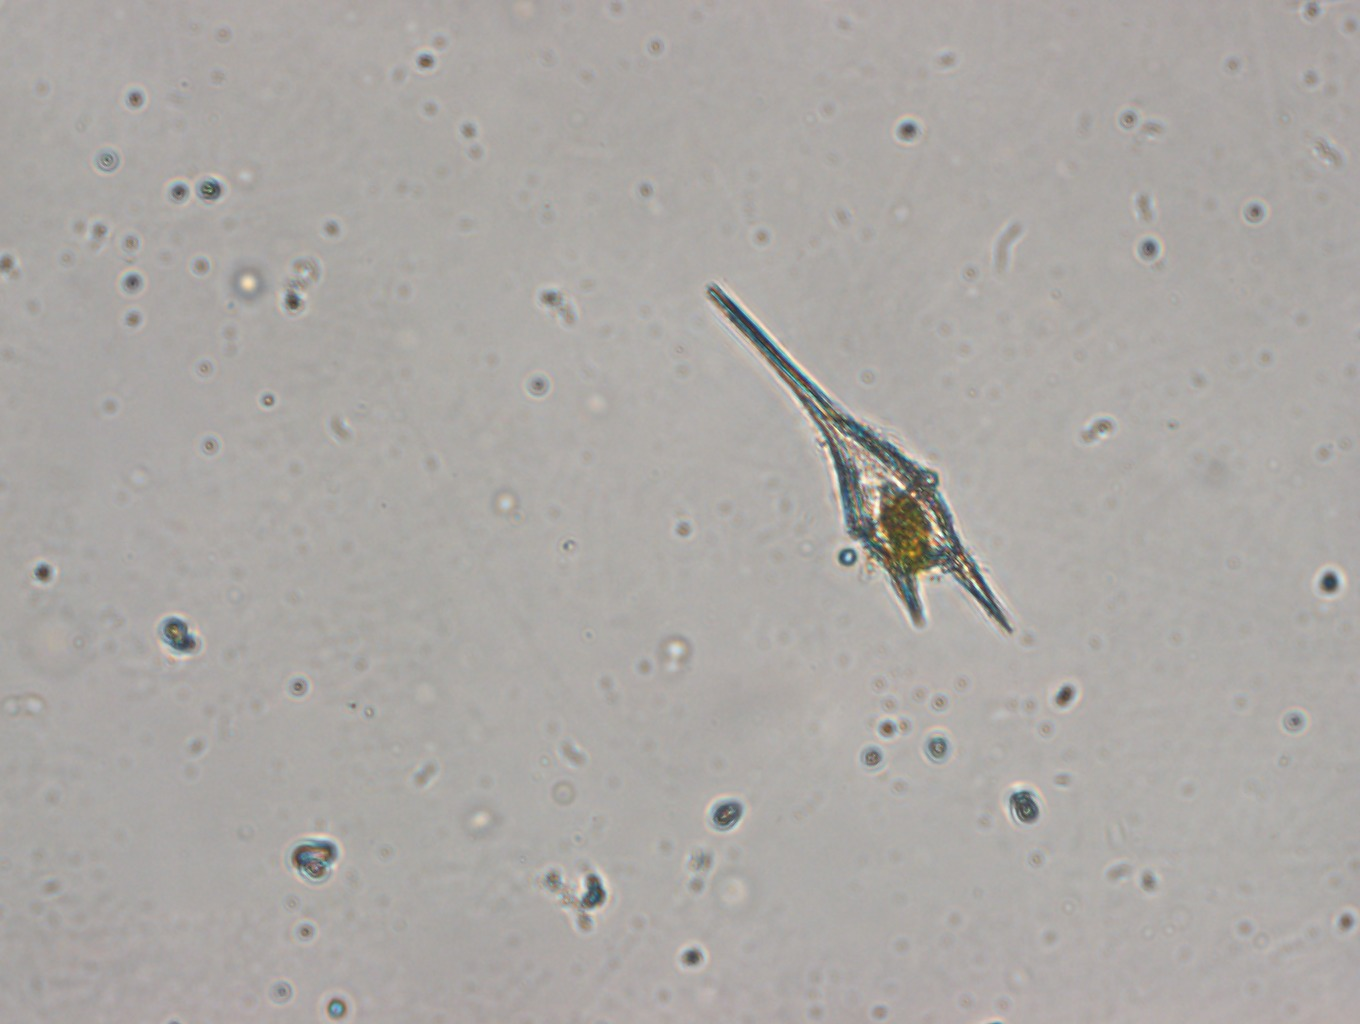ceratium furca: (706, 280, 1014, 636)
